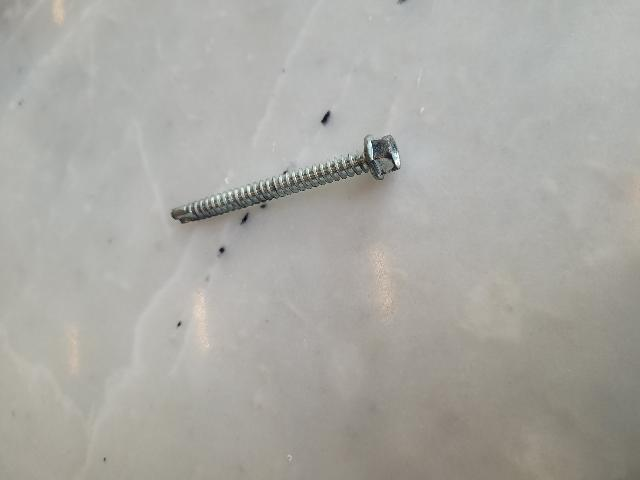Metal: (169, 129, 408, 234)
